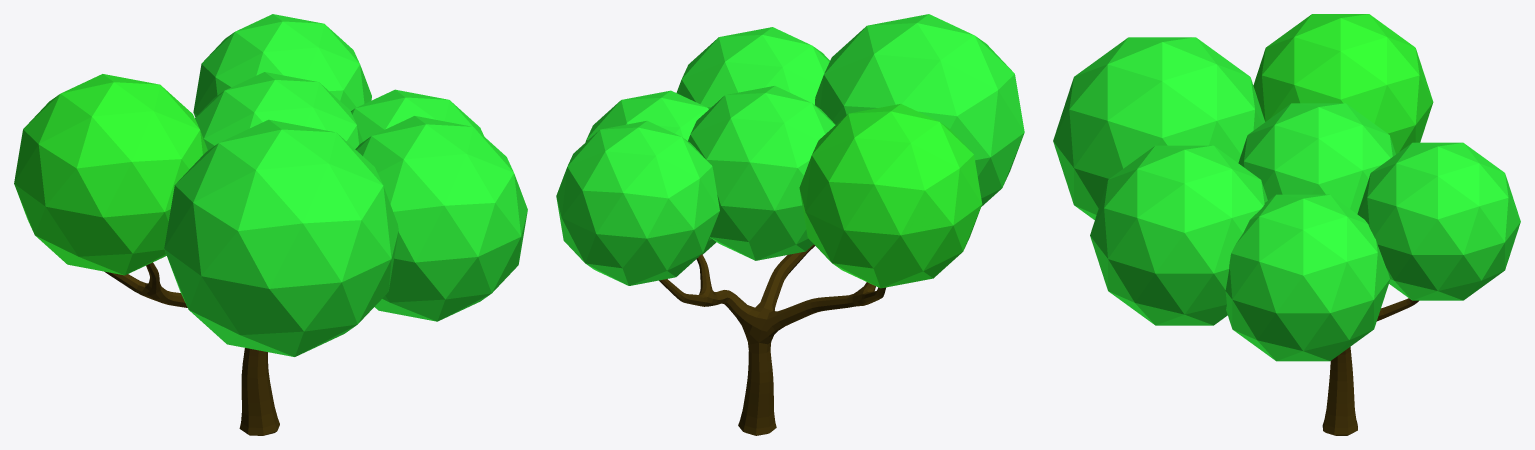
The model's file is tree_2.fbx.
The picture shows the model from 3 angles, left to right: view 1: azimuth 30°, elevation 25°; view 2: azimuth 150°, elevation 25°; view 3: azimuth 270°, elevation 25°; orthographic projection. The views are drawn at different scales.
Parts seen in each view (by area): view 1: Icosphere.003, Icosphere.002, Icosphere.004, Icosphere.005, Icosphere.001, Plane, Icosphere; view 2: Icosphere.002, Icosphere.005, Icosphere.003, Icosphere.001, Plane, Icosphere.004, Icosphere; view 3: Icosphere.004, Icosphere.003, Icosphere, Icosphere.005, Icosphere.002, Icosphere.001, Plane.
Boxes of the visible parts, x1,y1,x2,y2 form: Icosphere.003: (164, 119, 398, 356); Icosphere.002: (14, 74, 207, 275); Icosphere.004: (355, 116, 527, 321); Icosphere.005: (193, 14, 371, 117); Icosphere.001: (195, 72, 363, 150); Plane: (104, 262, 279, 435); Icosphere: (351, 89, 483, 141); Icosphere.002: (799, 104, 982, 288); Icosphere.005: (556, 120, 719, 285); Icosphere.003: (815, 14, 1024, 206); Icosphere.001: (688, 86, 835, 260); Plane: (659, 244, 886, 435); Icosphere.004: (676, 27, 829, 108); Icosphere: (585, 90, 716, 254); Icosphere.004: (1090, 145, 1267, 325); Icosphere.003: (1053, 37, 1264, 219); Icosphere: (1225, 194, 1390, 361); Icosphere.005: (1357, 142, 1520, 300); Icosphere.002: (1253, 14, 1433, 154); Icosphere.001: (1238, 103, 1395, 213); Plane: (1322, 298, 1418, 435).
Bounding box in the file's own units: 390 × 336 × 401.
